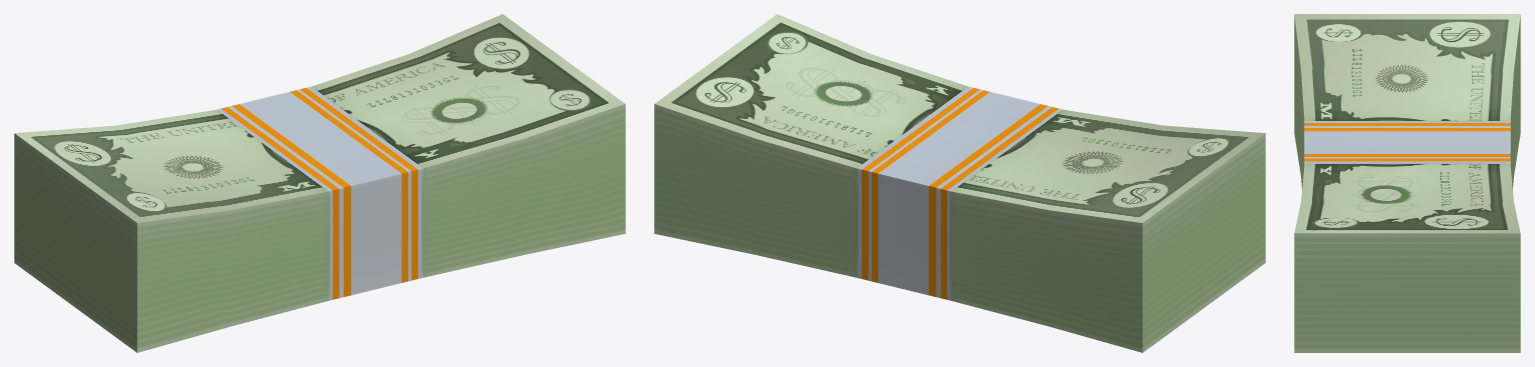
File: BankMoney01_1.FBX
The picture shows the model from 3 angles, left to right: view 1: azimuth 30°, elevation 25°; view 2: azimuth 150°, elevation 25°; view 3: azimuth 270°, elevation 25°; orthographic projection. The views are drawn at different scales.
Parts seen in each view (by area): view 1: BankMoney01_1; view 2: BankMoney01_1; view 3: BankMoney01_1.
Boxes of the visible parts, x1,y1,x2,y2 form: BankMoney01_1: [14, 14, 625, 352]; BankMoney01_1: [654, 14, 1265, 352]; BankMoney01_1: [1294, 14, 1520, 352].
Size of what is drawn, in the model's own units: 0.1968 by 0.05 by 0.0858.
